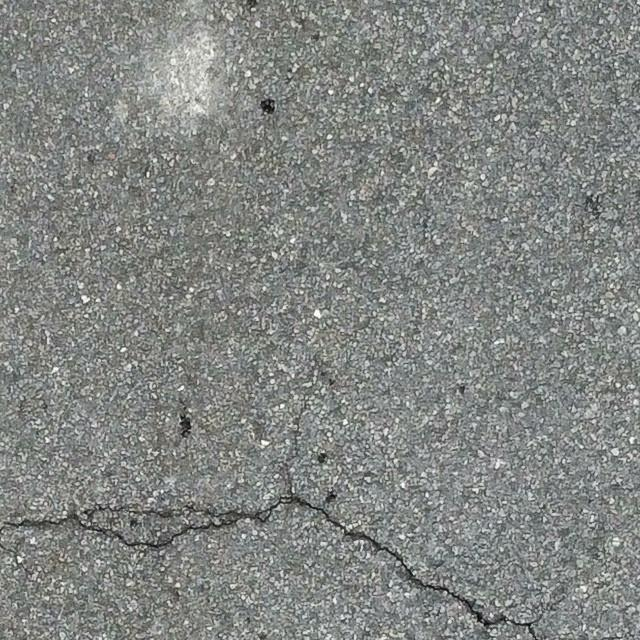TransverseCrack: (4, 470, 543, 640)
